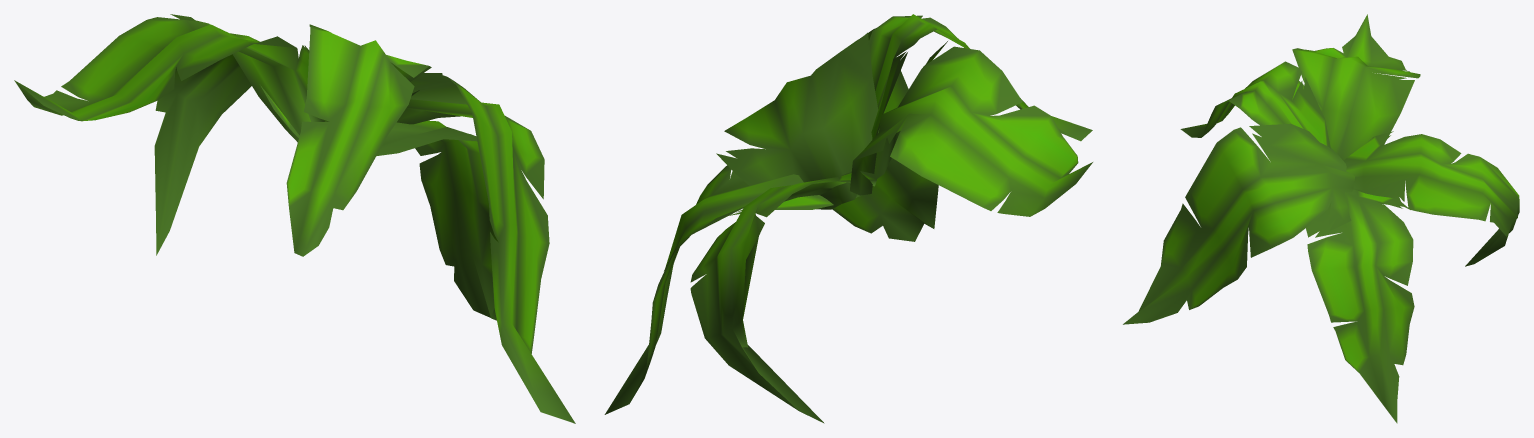
Rendered from FX_PalmFallingLeaves_03.fbx.
3 views of the same model, side by side, from view 1: azimuth 30°, elevation 25°; view 2: azimuth 150°, elevation 25°; view 3: azimuth 270°, elevation 25° (orthographic). The views are drawn at different scales.
Parts seen in each view (by area): view 1: M_Palm_03.003, M_Palm_03.004, M_Palm_03.005, M_Palm_03.007, M_Palm_03.006; view 2: M_Palm_03.005, M_Palm_03.003, M_Palm_03.006, M_Palm_03.007, M_Palm_03.004; view 3: M_Palm_03.003, M_Palm_03.007, M_Palm_03.006, M_Palm_03.005, M_Palm_03.004.
Part boxes in pixels (box(x1,y1,x2,y2)): M_Palm_03.003: box(397, 73, 575, 423); M_Palm_03.004: box(286, 24, 431, 256); M_Palm_03.005: box(14, 14, 328, 142); M_Palm_03.007: box(376, 120, 498, 320); M_Palm_03.006: box(154, 33, 299, 255); M_Palm_03.005: box(850, 41, 1092, 216); M_Palm_03.003: box(716, 28, 938, 241); M_Palm_03.006: box(690, 171, 876, 423); M_Palm_03.007: box(604, 165, 861, 414); M_Palm_03.004: box(867, 14, 1092, 141); M_Palm_03.003: box(1123, 123, 1354, 324); M_Palm_03.007: box(1306, 189, 1414, 423); M_Palm_03.006: box(1343, 131, 1519, 266); M_Palm_03.005: box(1292, 14, 1420, 160); M_Palm_03.004: box(1180, 61, 1330, 148).
Size of the model in its own units: 471 by 374 by 490.
